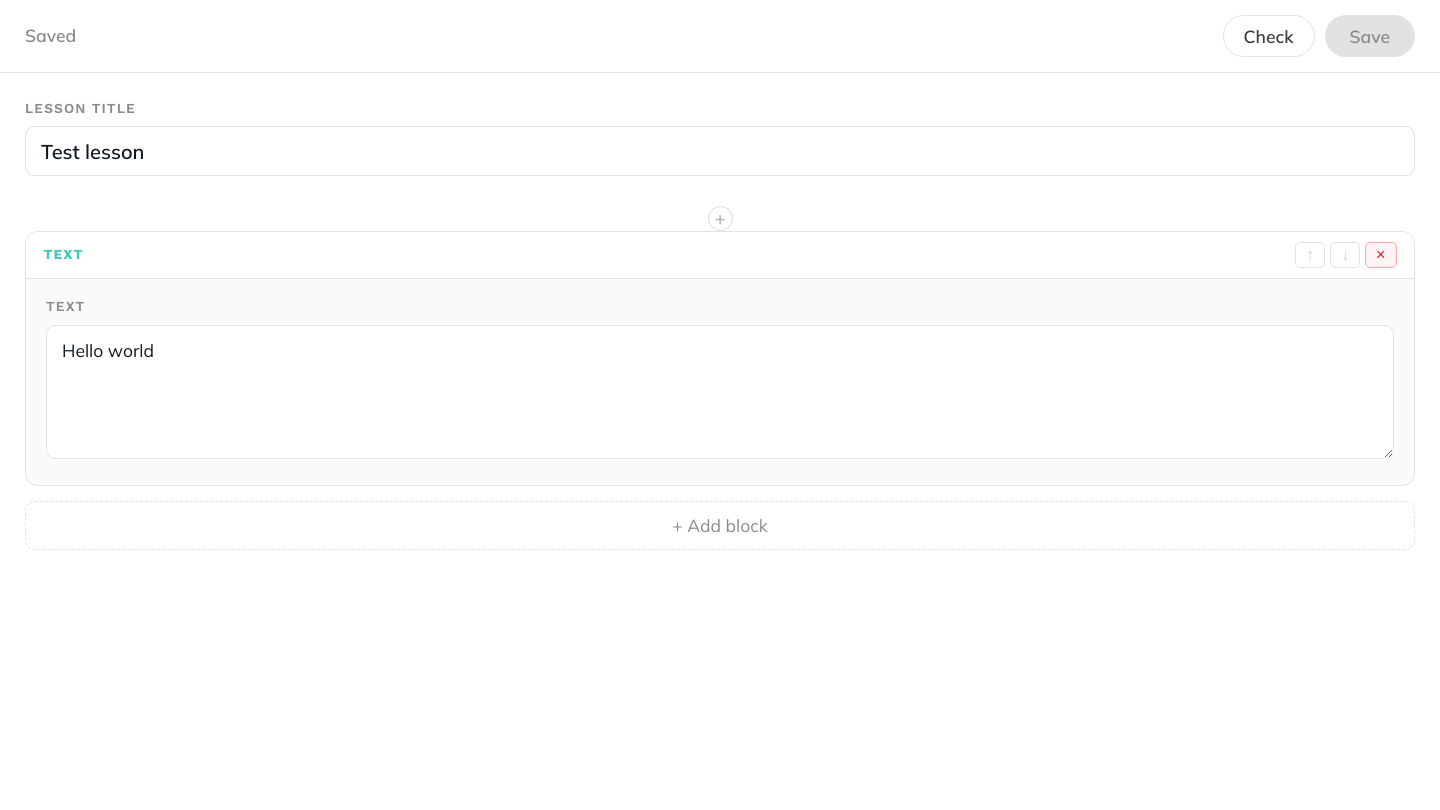
Scenario: LessonEditor guarded save (B5) › a save that cannot reach the server shows an error and lets you save again
Replace the text in the text box showing "Hello world" with "Changed": (720, 392) 46,325 -> 1394,459
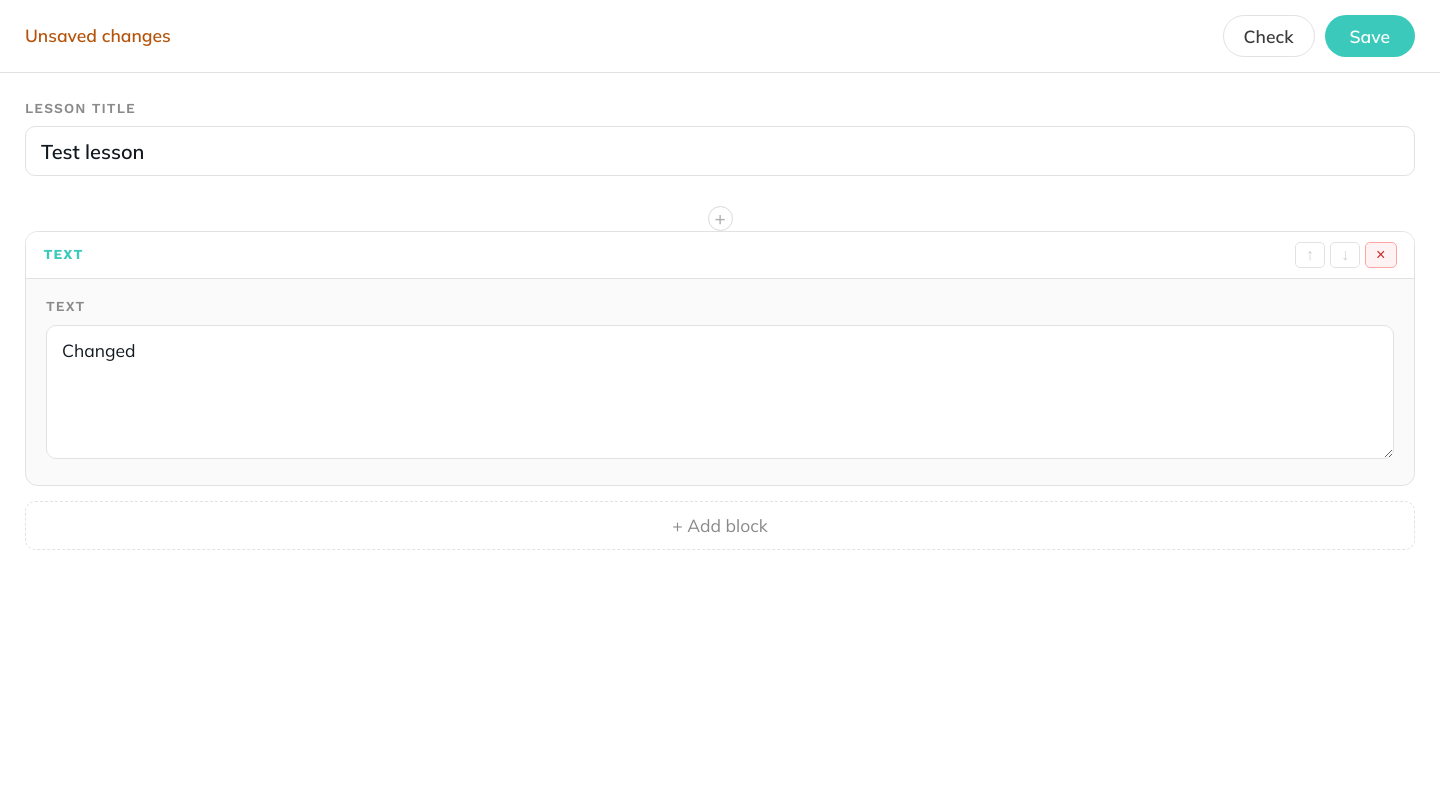
Click the button "Save": (1370, 36) 1324,15 -> 1415,56
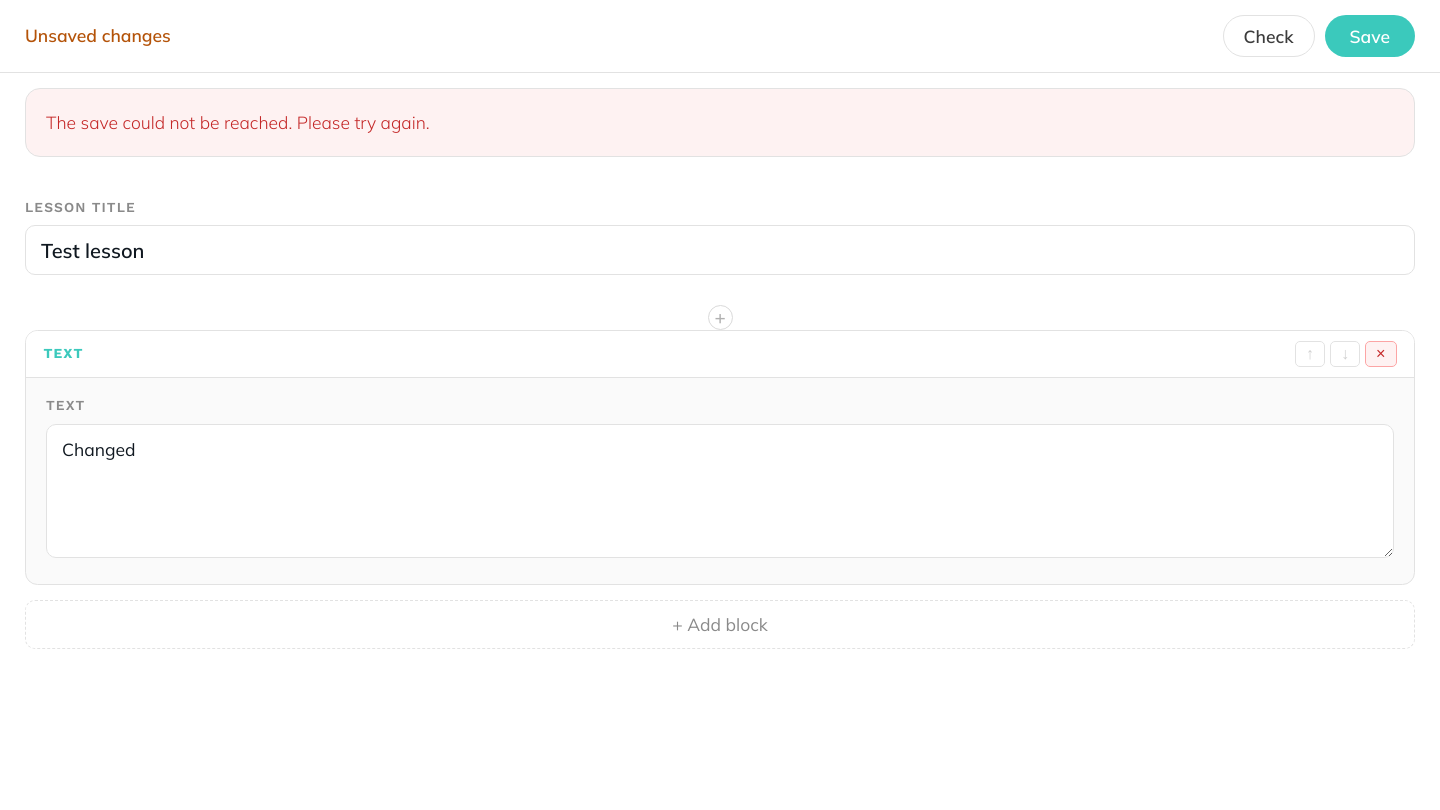
Check: the button "Save" is enabled, box 1324,15 -> 1415,56
Check: the text "The save could not be reached. Please try again." is shown, box 25,88 -> 1415,157
